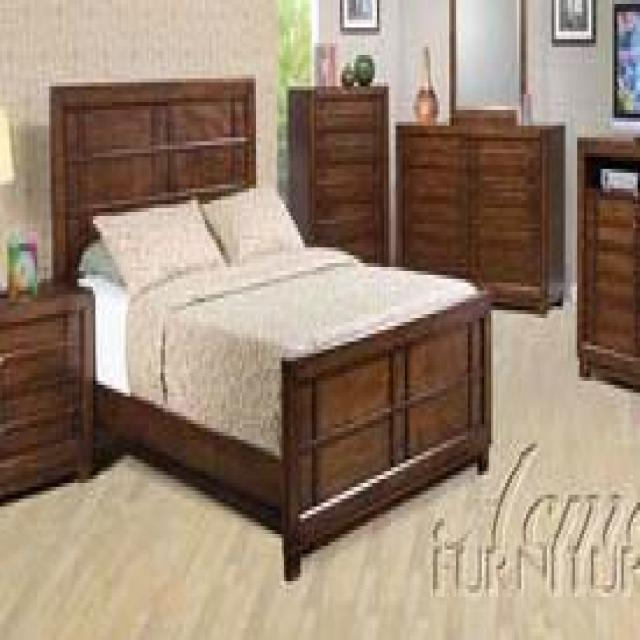bed: (47, 70, 493, 586)
